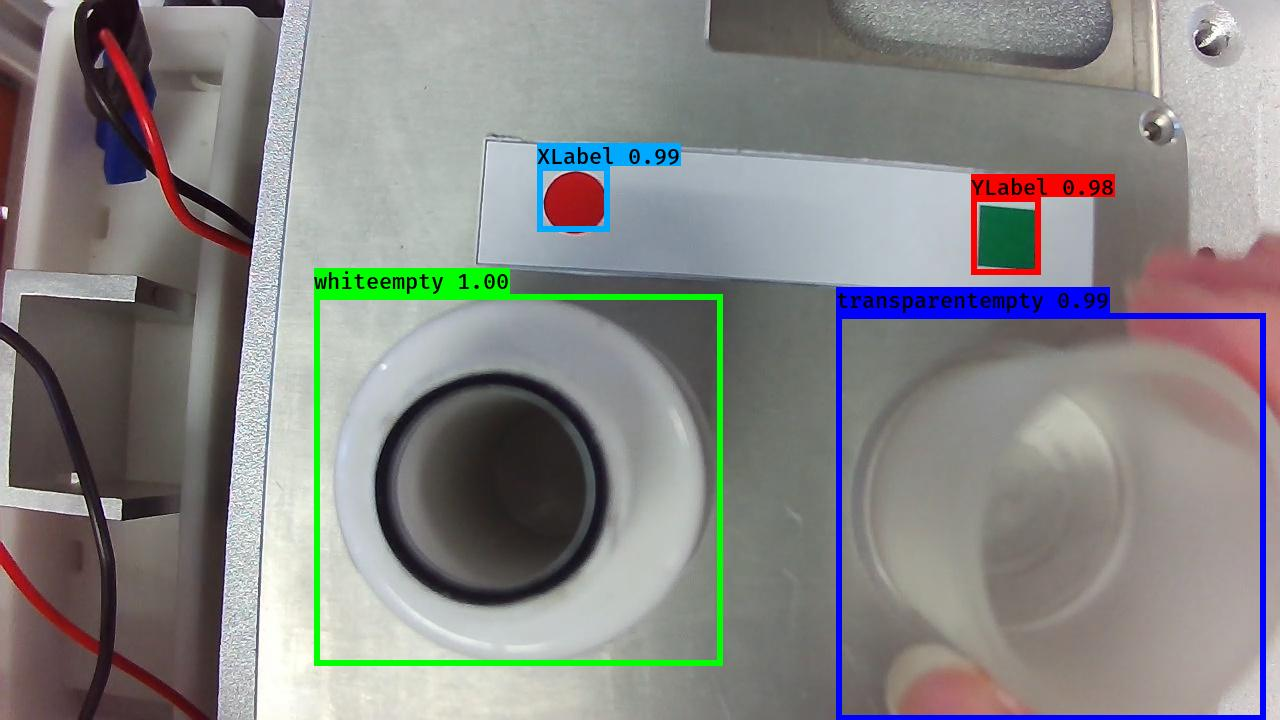XLabel: (541, 166, 610, 235)
YLabel: (971, 200, 1042, 273)
transparentempty: (853, 341, 1280, 720)
whiteempty: (323, 292, 718, 665)
